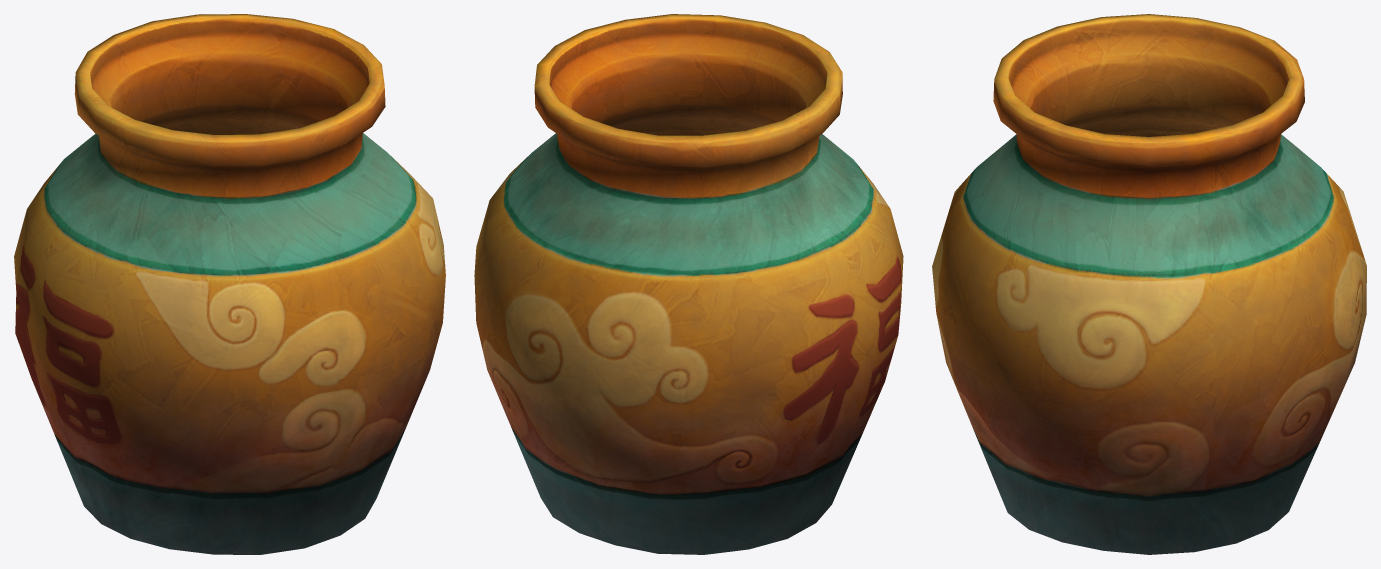
The model's file is SM_Pot_A.glb.
The picture shows the model from 3 angles, left to right: view 1: azimuth 30°, elevation 25°; view 2: azimuth 150°, elevation 25°; view 3: azimuth 270°, elevation 25°; orthographic projection.
Visible parts, largest first — view 1: SM_Pot_A_LOD0; view 2: SM_Pot_A_LOD0; view 3: SM_Pot_A_LOD0.
Part boxes in pixels (left/top/right/bottom): SM_Pot_A_LOD0: left=14, top=14, right=445, bottom=554; SM_Pot_A_LOD0: left=474, top=14, right=903, bottom=554; SM_Pot_A_LOD0: left=932, top=14, right=1366, bottom=554.
Bounding box in the file's own units: 0.4044 × 0.4285 × 0.4026.
Materials: 1 (1 with a texture image).
